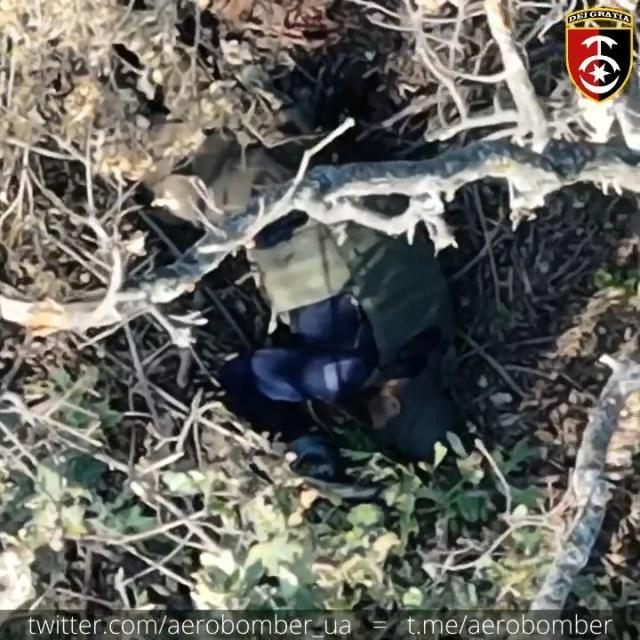MIL_Pax: (219, 210, 454, 459)
